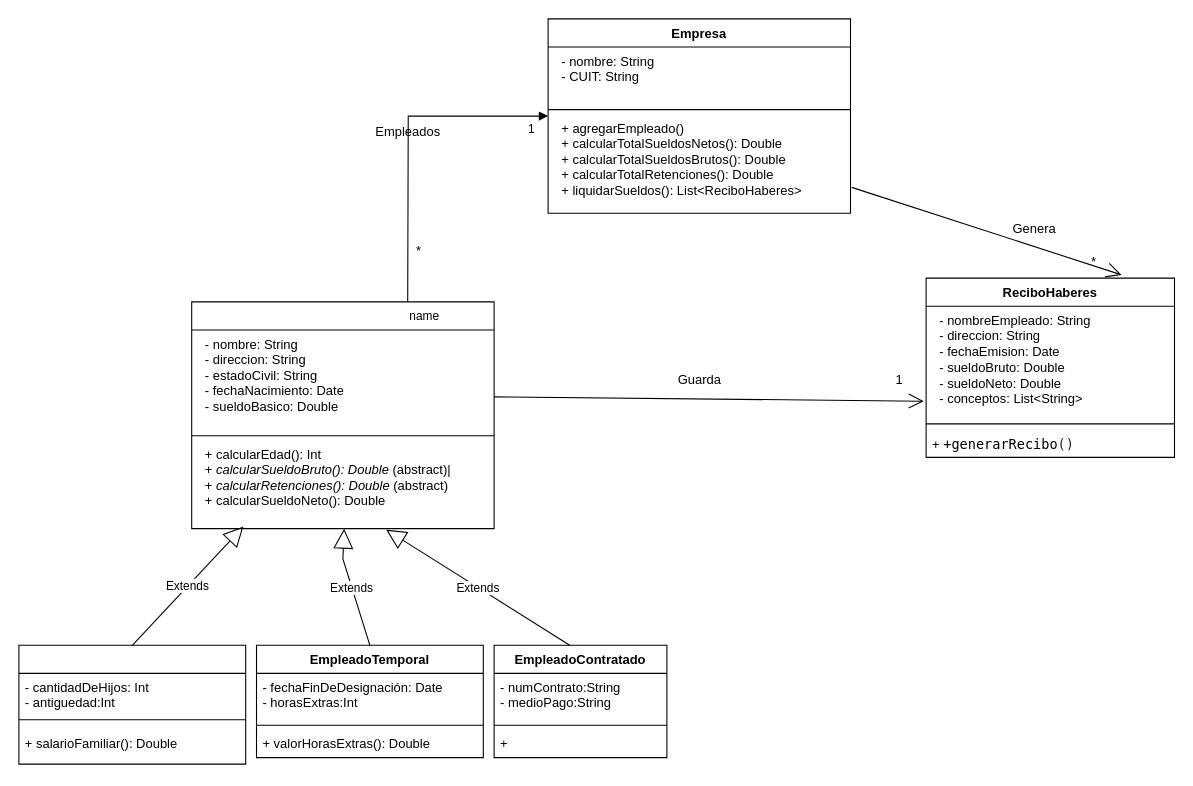
The diagram is 1193 pixels wide and 786 high, and some of its shapes have lost their labels. The box of each missing label's shape, as (x1, y1, x2, y2) in pixels:
Empleado: (191, 301, 494, 529)
EmpleadoPermanente: (18, 644, 246, 764)
